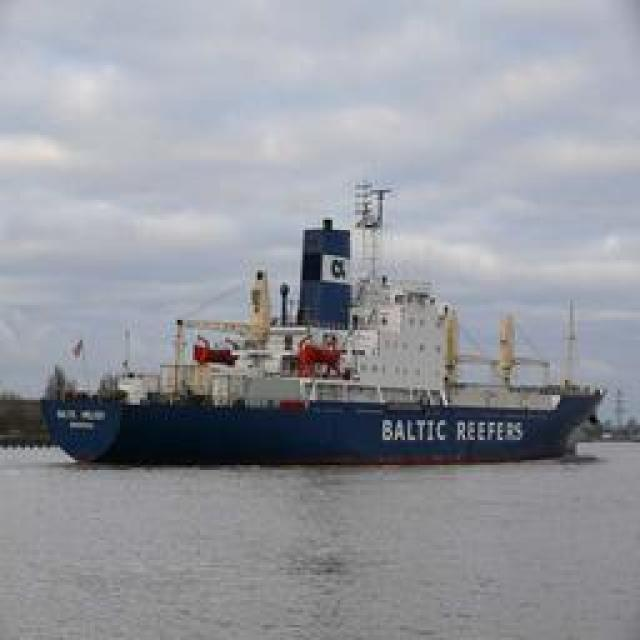CIV_Ship: (26, 276, 619, 469)
